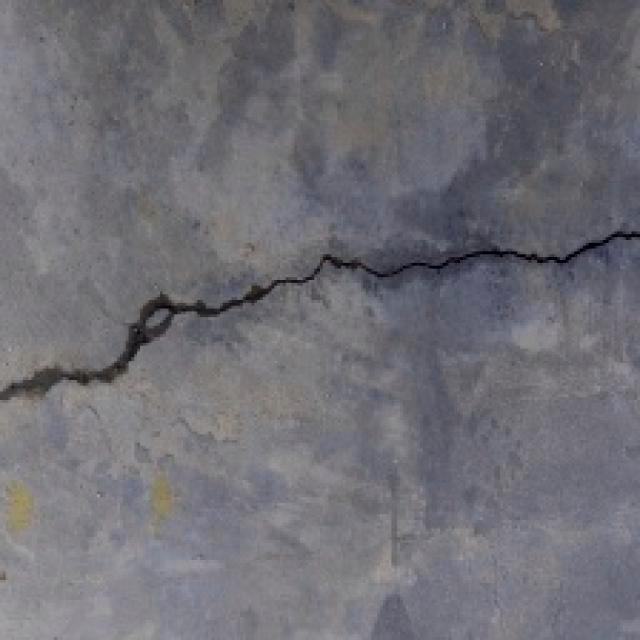crack: (0, 196, 640, 432)
